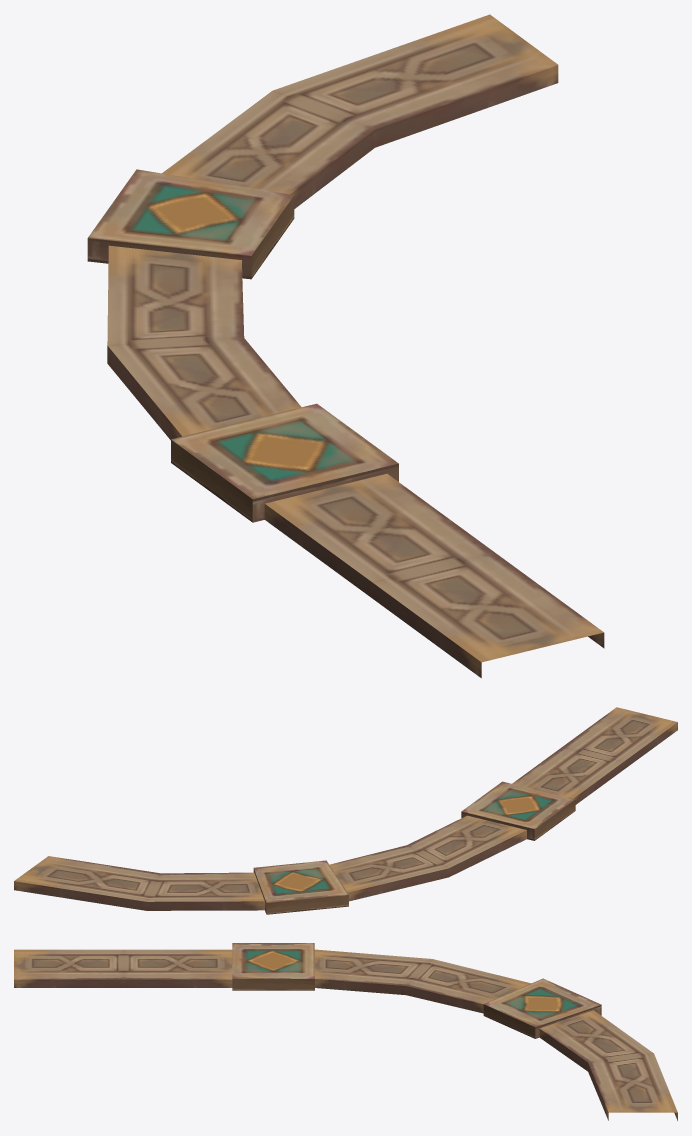
Rendered from Map_11_brick01.FBX.
3 renders of one model, top to bottom at view 1: azimuth 30°, elevation 25°; view 2: azimuth 150°, elevation 25°; view 3: azimuth 270°, elevation 25°, orthographic. The views are drawn at different scales.
Visible parts, largest first — view 1: Map_11_brick01; view 2: Map_11_brick01; view 3: Map_11_brick01.
Boxes of the visible parts, box(x1,y1,x2,y2) form: Map_11_brick01: box(87, 14, 604, 678); Map_11_brick01: box(14, 707, 677, 914); Map_11_brick01: box(14, 943, 677, 1120).
Size of the model in its own units: 442 by 743 by 14.54.
